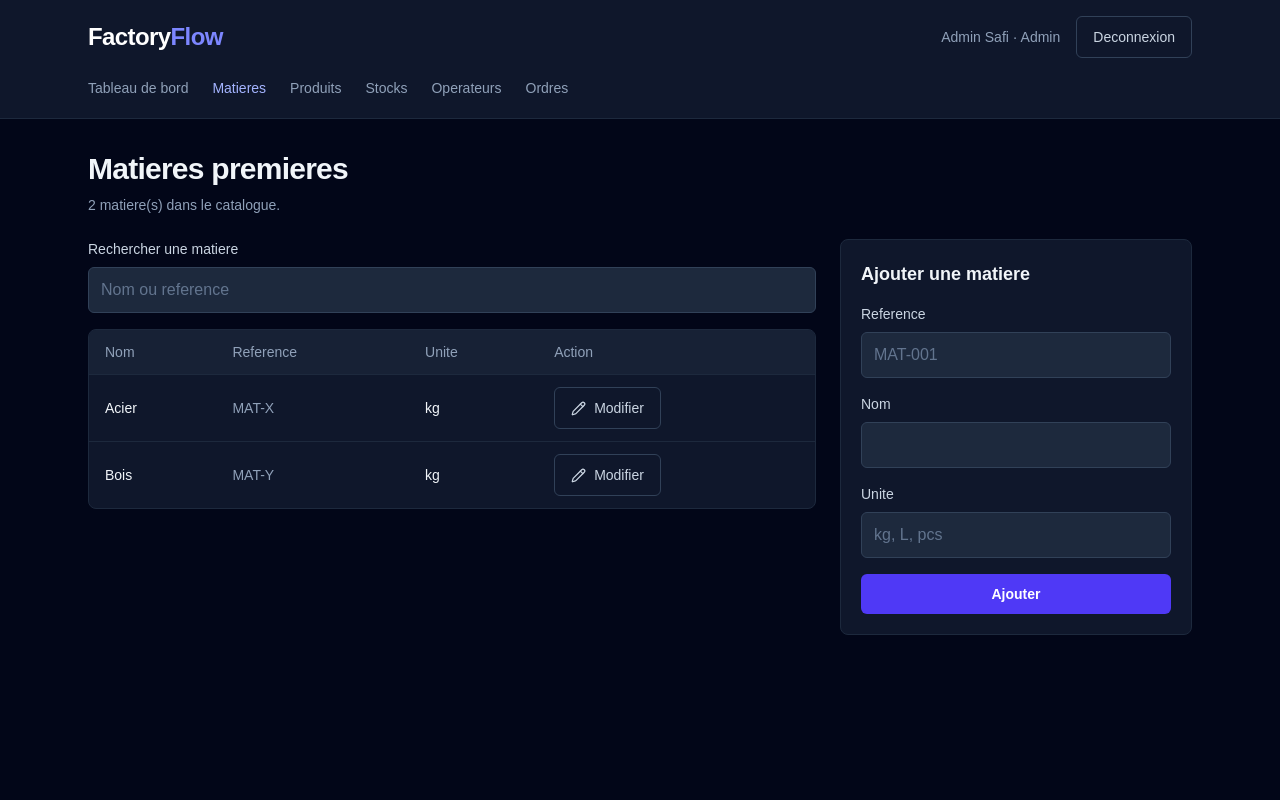
Test: failed material save keeps the popup and typed values
This screenshot has width=1280, height=800.
Click the button with aria-label "Modifier Acier": click(608, 408) [554, 387, 661, 429]
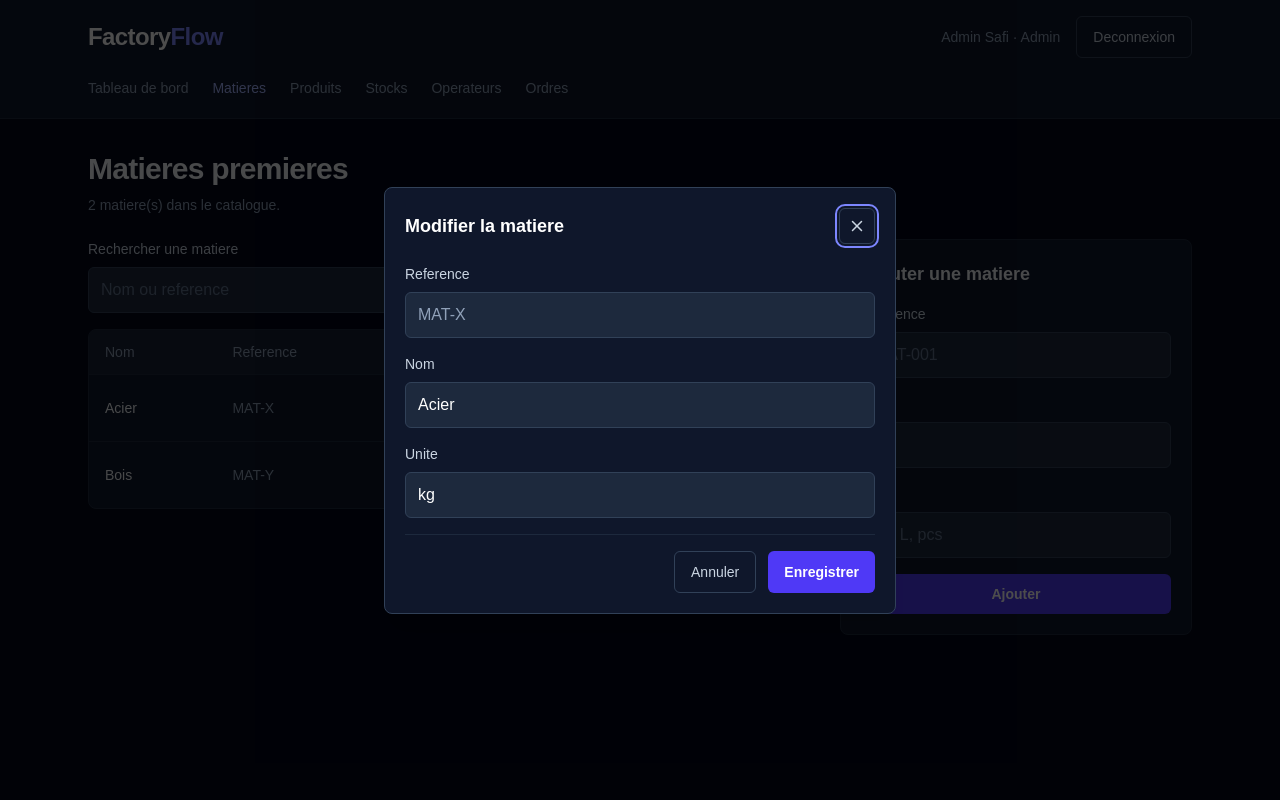
Click the button "Enregistrer": click(822, 572) [768, 550, 875, 592]
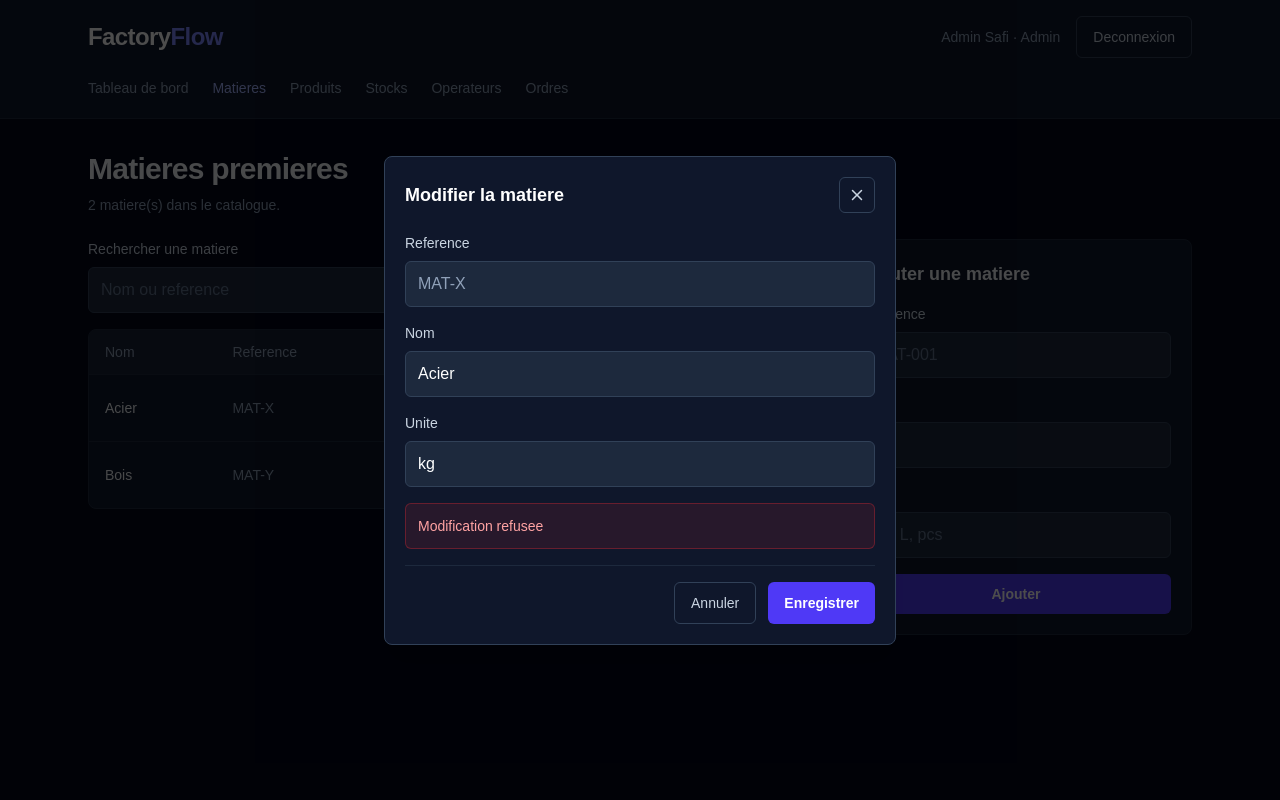
Expected: the dialog is shown, [384, 156, 896, 644]
Expected: the message reads "Modification refusee", [418, 518, 543, 534]
